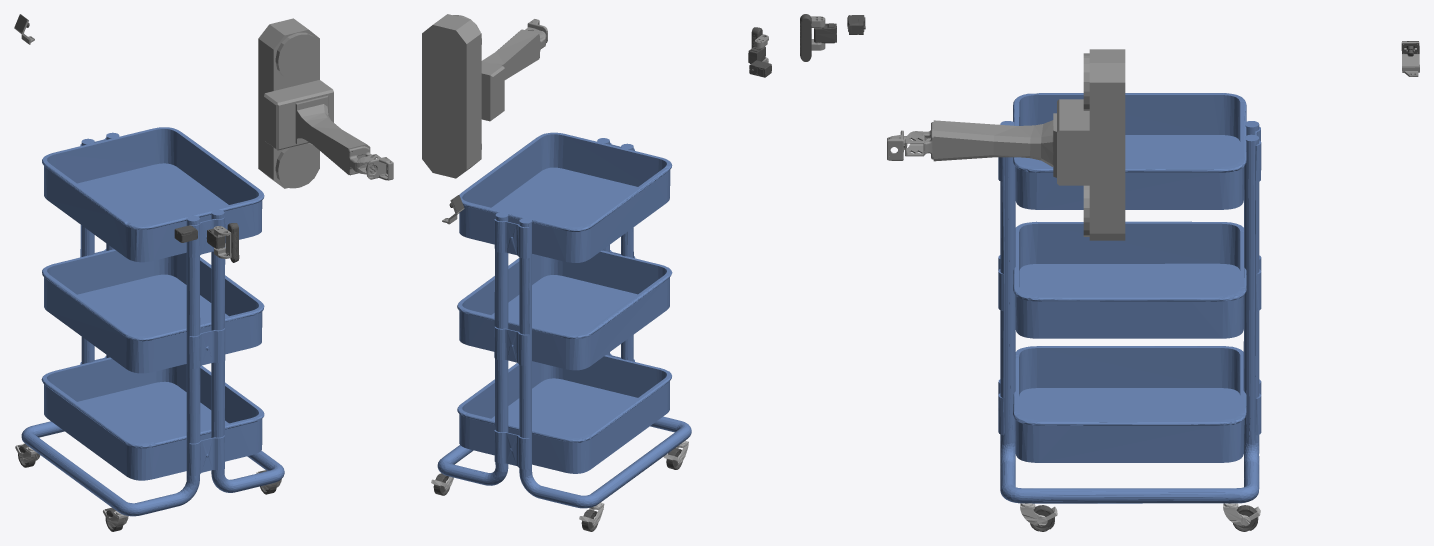
Rendered from xlerobot.glb.
3 views of the same model, side by side, from view 1: azimuth 30°, elevation 25°; view 2: azimuth 150°, elevation 25°; view 3: azimuth 270°, elevation 25° (orthographic). The views are drawn at different scales.
Visible parts, largest first — view 1: raskogbody.stl, topbase1.stl, raskogwheel1.stl, tophead1.stl, raskogwheel2.stl; view 2: raskogbody.stl, topbase1.stl, raskogwheel2.stl, raskogwheel1.stl; view 3: raskogbody.stl, topbase1.stl, raskogwheel1.stl.
Part boxes in pixels (<box>): raskogbody.stl: <box>21,127,284,516</box>; topbase1.stl: <box>258,18,381,188</box>; raskogwheel1.stl: <box>15,443,281,527</box>; tophead1.stl: <box>365,157,393,180</box>; raskogwheel2.stl: <box>18,445,276,531</box>; raskogbody.stl: <box>437,132,691,508</box>; topbase1.stl: <box>422,14,545,178</box>; raskogwheel2.stl: <box>433,448,682,531</box>; raskogwheel1.stl: <box>431,440,688,526</box>; raskogbody.stl: <box>998,93,1261,503</box>; topbase1.stl: <box>903,49,1125,240</box>; raskogwheel1.stl: <box>1020,503,1260,526</box>.
Bounding box in the file's own units: 640 × 1091 × 1221.
